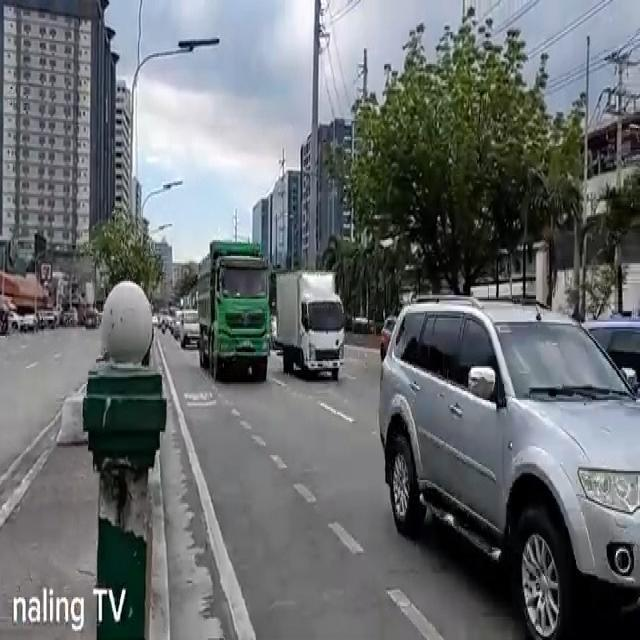car: (378, 292, 640, 639)
truck: (196, 240, 272, 380), (276, 272, 346, 381)
